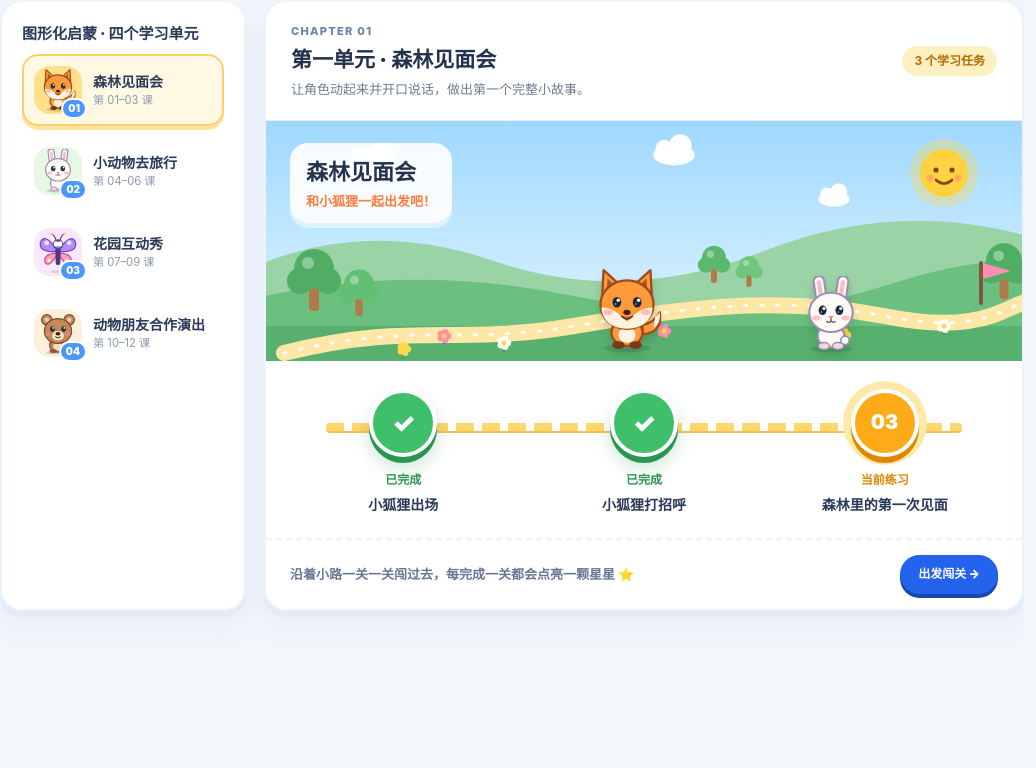
Test: MapView › fails closed: an unknown phase from abnormal data renders locked, never open
Click the button with test id "adventure-map-unit-unit-2-meadow-journey": (123, 171) [22,135,224,207]
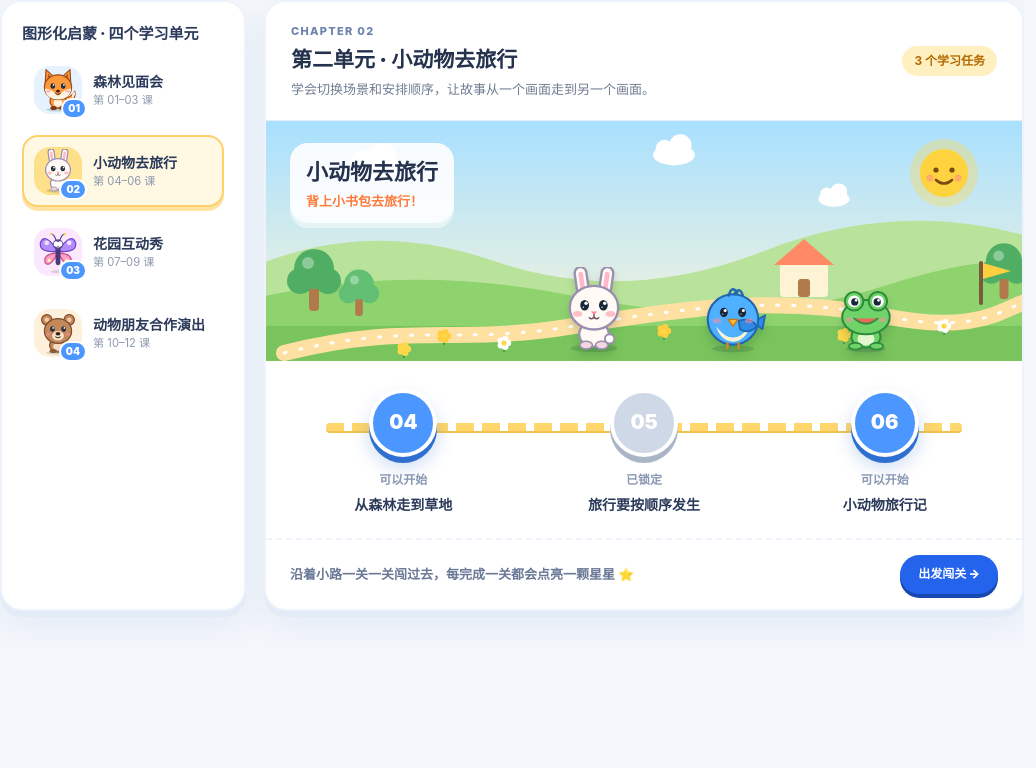
expect the element with test id "lesson-card-lesson-05-meadow-order" shows "已锁定": met, box [626,472,662,487]
